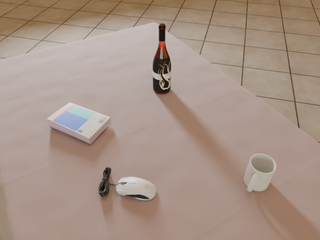book: (47, 103, 111, 144)
bottle: (153, 24, 171, 94)
cup: (244, 154, 276, 192)
mouse: (116, 177, 156, 200)
